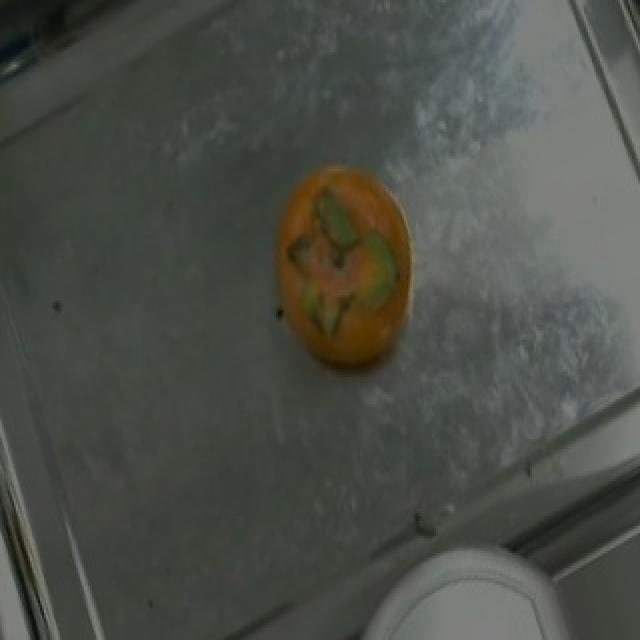Fruit: (250, 144, 442, 387), (368, 563, 564, 638)
